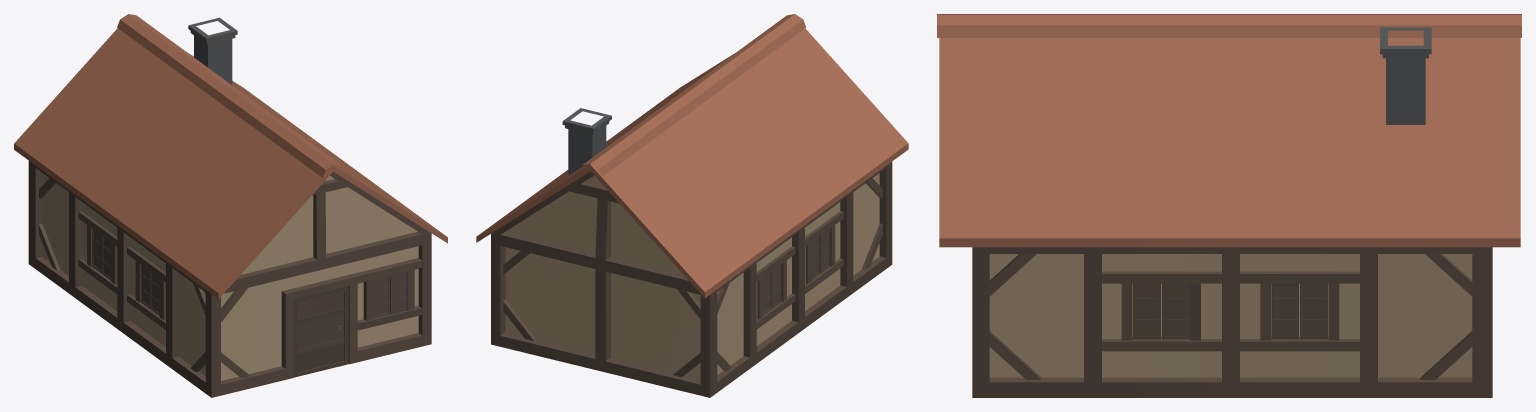
The model's file is cottage.glb.
The picture shows the model from 3 angles, left to right: view 1: azimuth 30°, elevation 25°; view 2: azimuth 150°, elevation 25°; view 3: azimuth 270°, elevation 25°; orthographic projection. The views are drawn at different scales.
Parts seen in each view (by area): view 1: Cottage; view 2: Cottage; view 3: Cottage.
Boxes of the visible parts, left/top/right/bottom form: Cottage: left=14, top=14, right=447, bottom=397; Cottage: left=476, top=14, right=908, bottom=397; Cottage: left=937, top=14, right=1521, bottom=397.
Bounding box in the file's own units: 0.3 × 0.2763 × 0.4661.
Materials: 1 (1 with a texture image).
